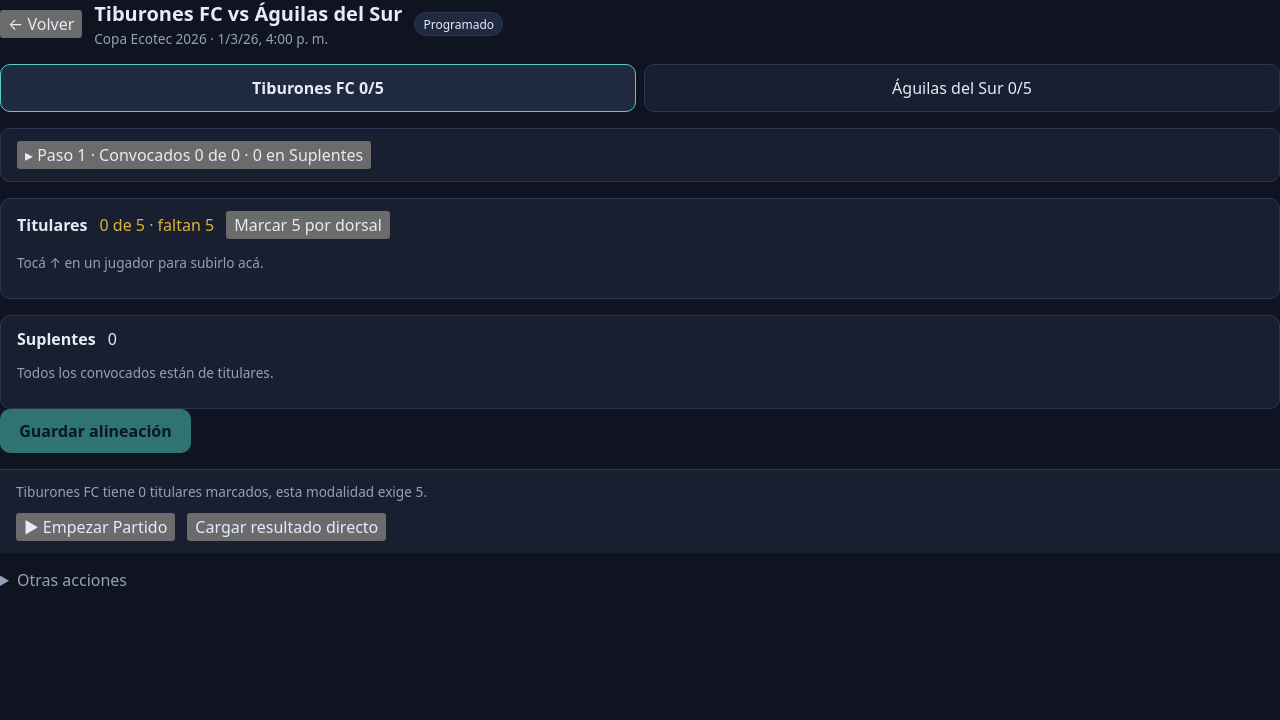
Scenario: GestionarPartido — acciones secundarias › 'Cargar resultado directo' abre el modal sin pasar por el cronómetro
This screenshot has width=1280, height=720.
Step 1. Click the button "Cargar resultado directo" → (287, 527), box 187,513 -> 386,541
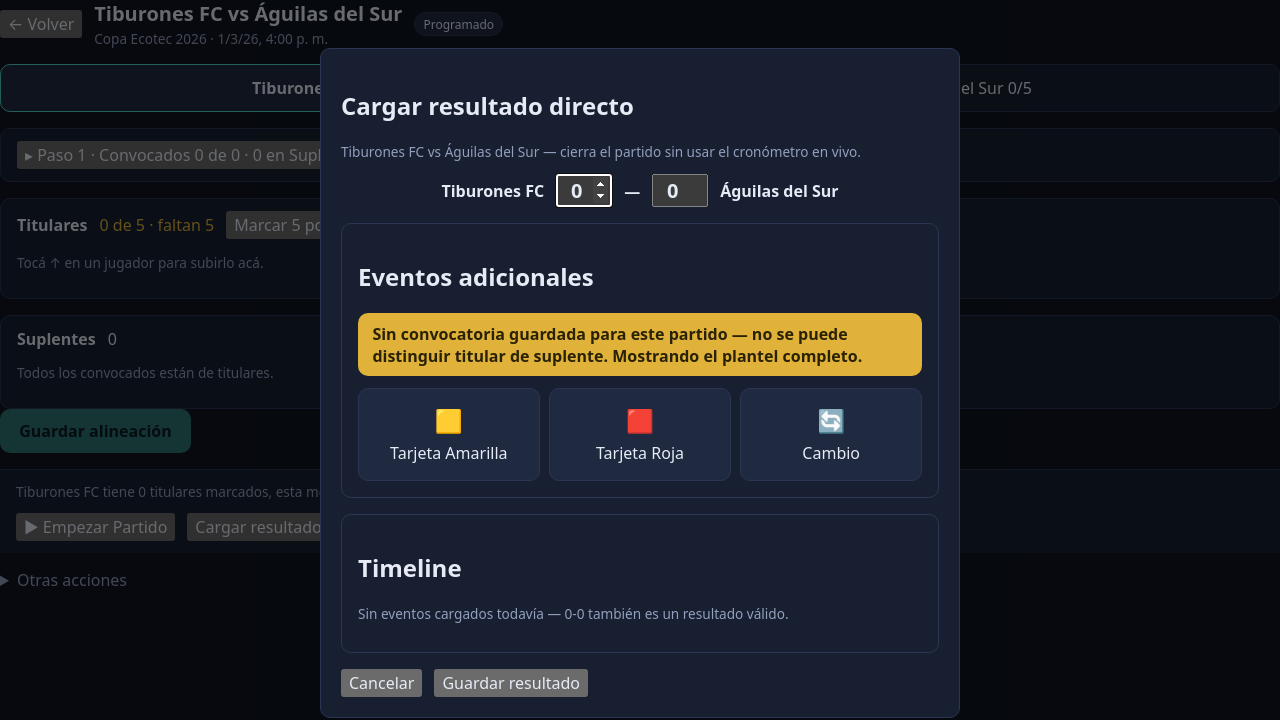
Expected: the heading "Cargar resultado directo" is shown, 341,89 -> 634,122
